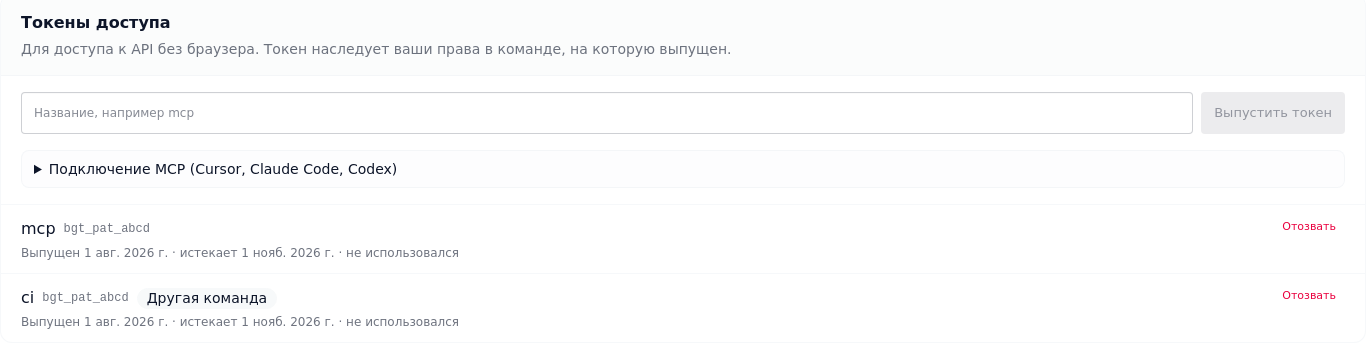
Test: отзыв токена › запоздавший ответ не возвращает отозванный токен
Expected: the text "mcp" is shown, [21,217,56,241]
Click the 1st button "Отозвать": (1309, 228) [1273,217,1345,238]
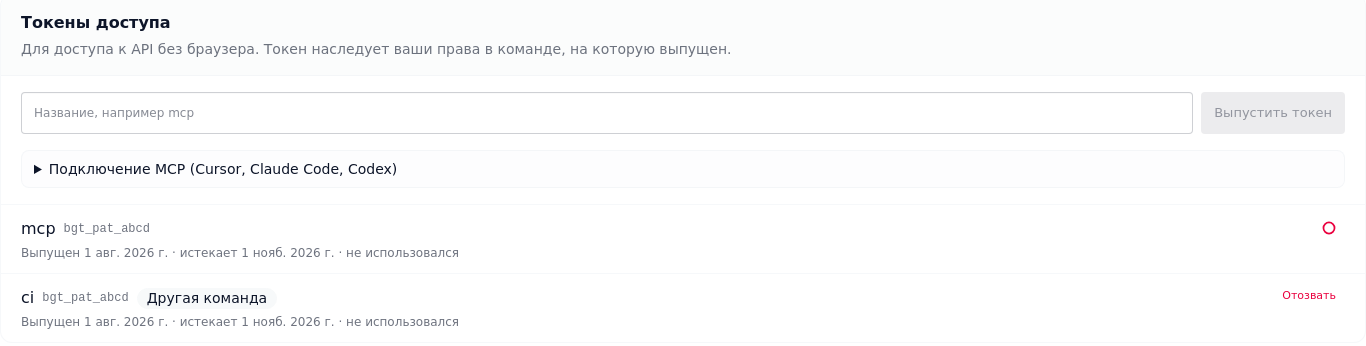
Click the button "Отозвать": (1309, 296) [1273,286,1345,307]
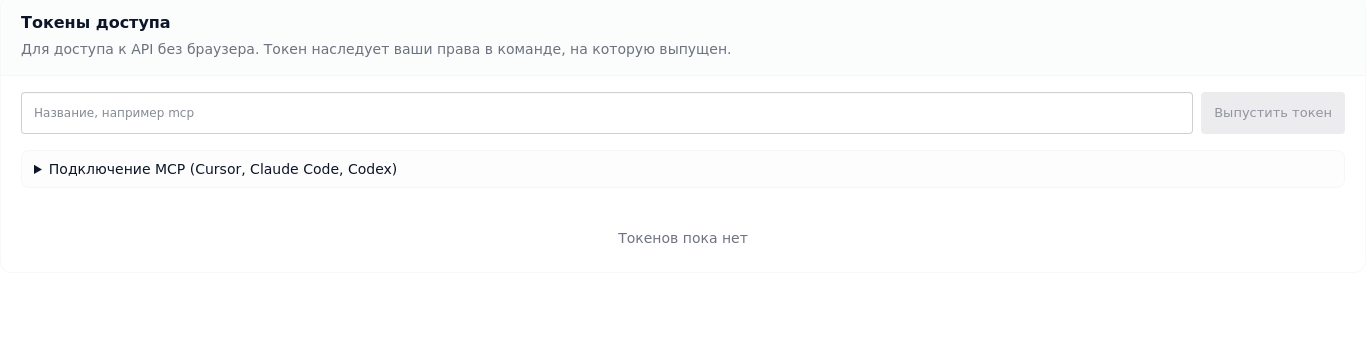
Expected: the text "ci" is gone
